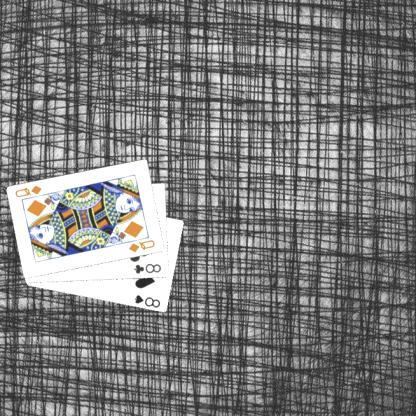8C: (133, 261, 165, 275)
8S: (133, 293, 163, 309)
QD: (128, 237, 158, 254), (15, 183, 45, 199)
